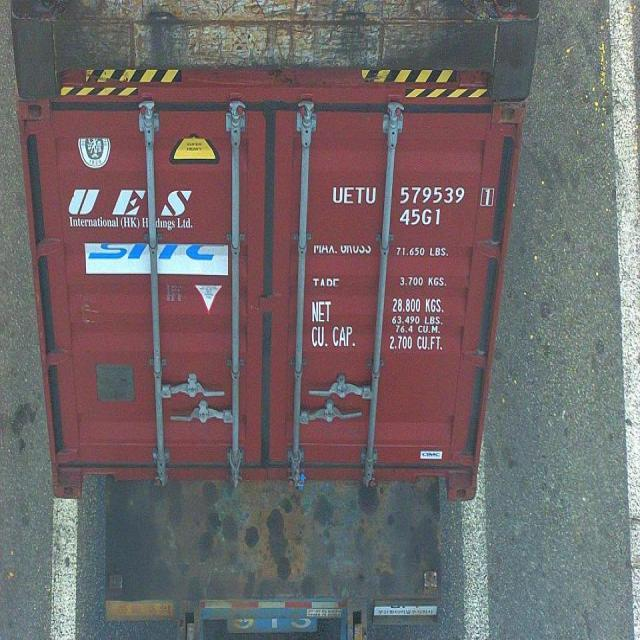ISO: (400, 208, 442, 226)
container_number: (331, 182, 496, 208)
